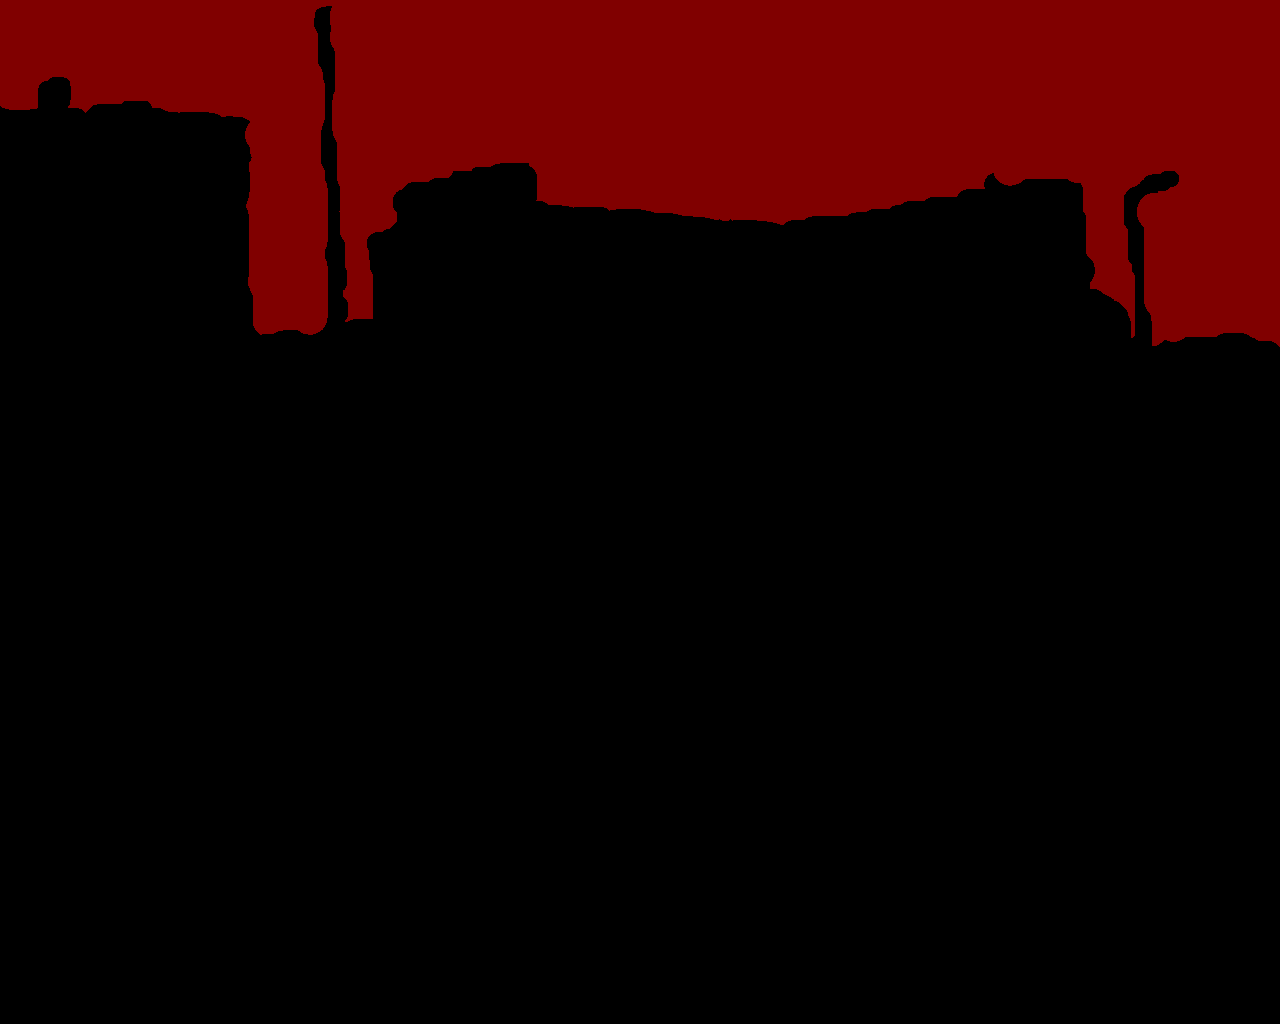Sky: (1, 1, 1279, 347)
